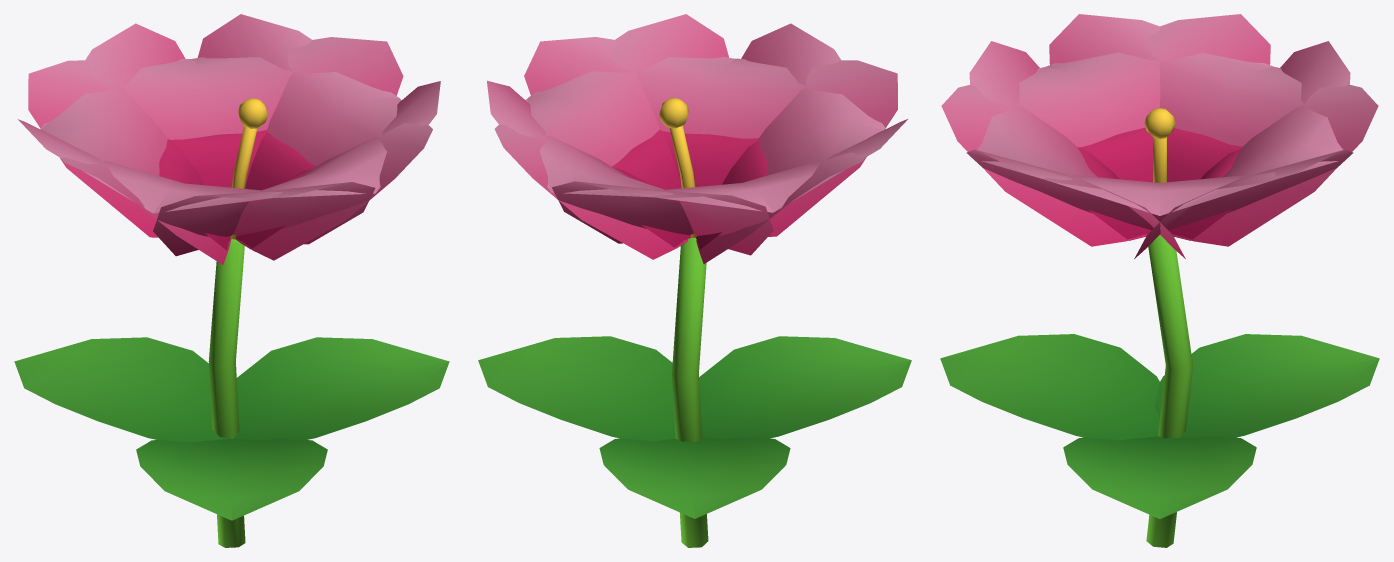
The model's file is hibiscus.glb.
The picture shows the model from 3 angles, left to right: view 1: azimuth 30°, elevation 25°; view 2: azimuth 150°, elevation 25°; view 3: azimuth 270°, elevation 25°; orthographic projection.
Parts seen in each view (by area): view 1: hibiscus; view 2: hibiscus; view 3: hibiscus.
Part boxes in pixels (left/top/right/bottom): hibiscus: left=14, top=14, right=449, bottom=547; hibiscus: left=478, top=14, right=911, bottom=547; hibiscus: left=940, top=14, right=1379, bottom=547.
Bounding box in the file's own units: 0.4712 × 0.5024 × 0.4503.
